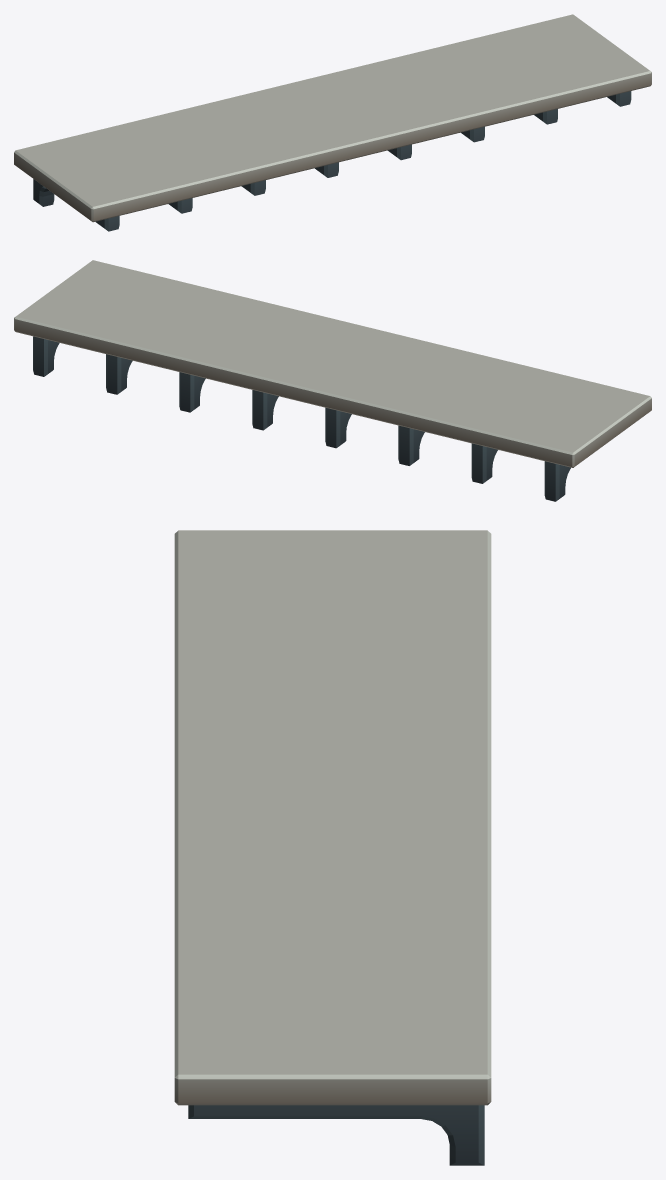
The model's file is sp_build_prop_pf_02.fbx.
The picture shows the model from 3 angles, top to bottom: view 1: azimuth 30°, elevation 25°; view 2: azimuth 150°, elevation 25°; view 3: azimuth 270°, elevation 25°; orthographic projection. The views are drawn at different scales.
Parts seen in each view (by area): view 1: build_prop_pf_02; view 2: build_prop_pf_02; view 3: build_prop_pf_02.
Part boxes in pixels (x1=…): build_prop_pf_02: x1=14, y1=14, x2=651, y2=231; build_prop_pf_02: x1=14, y1=260, x2=651, y2=501; build_prop_pf_02: x1=174, y1=530, x2=491, y2=1165.
Bounding box in the file's own units: 409 × 37.77 × 100.
